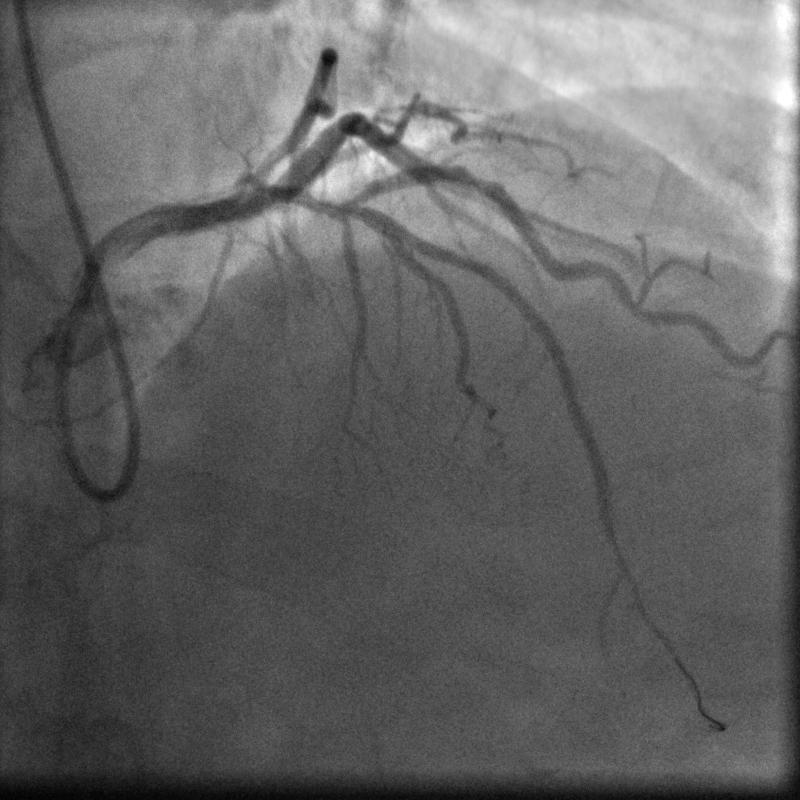Stenosis: (451, 161, 500, 202)
